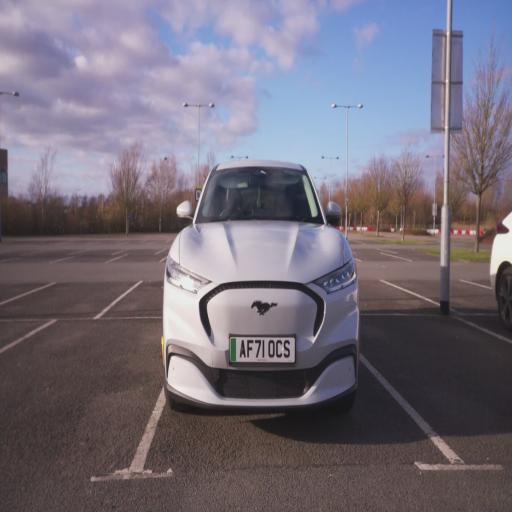numberplates: (230, 337, 295, 363)
